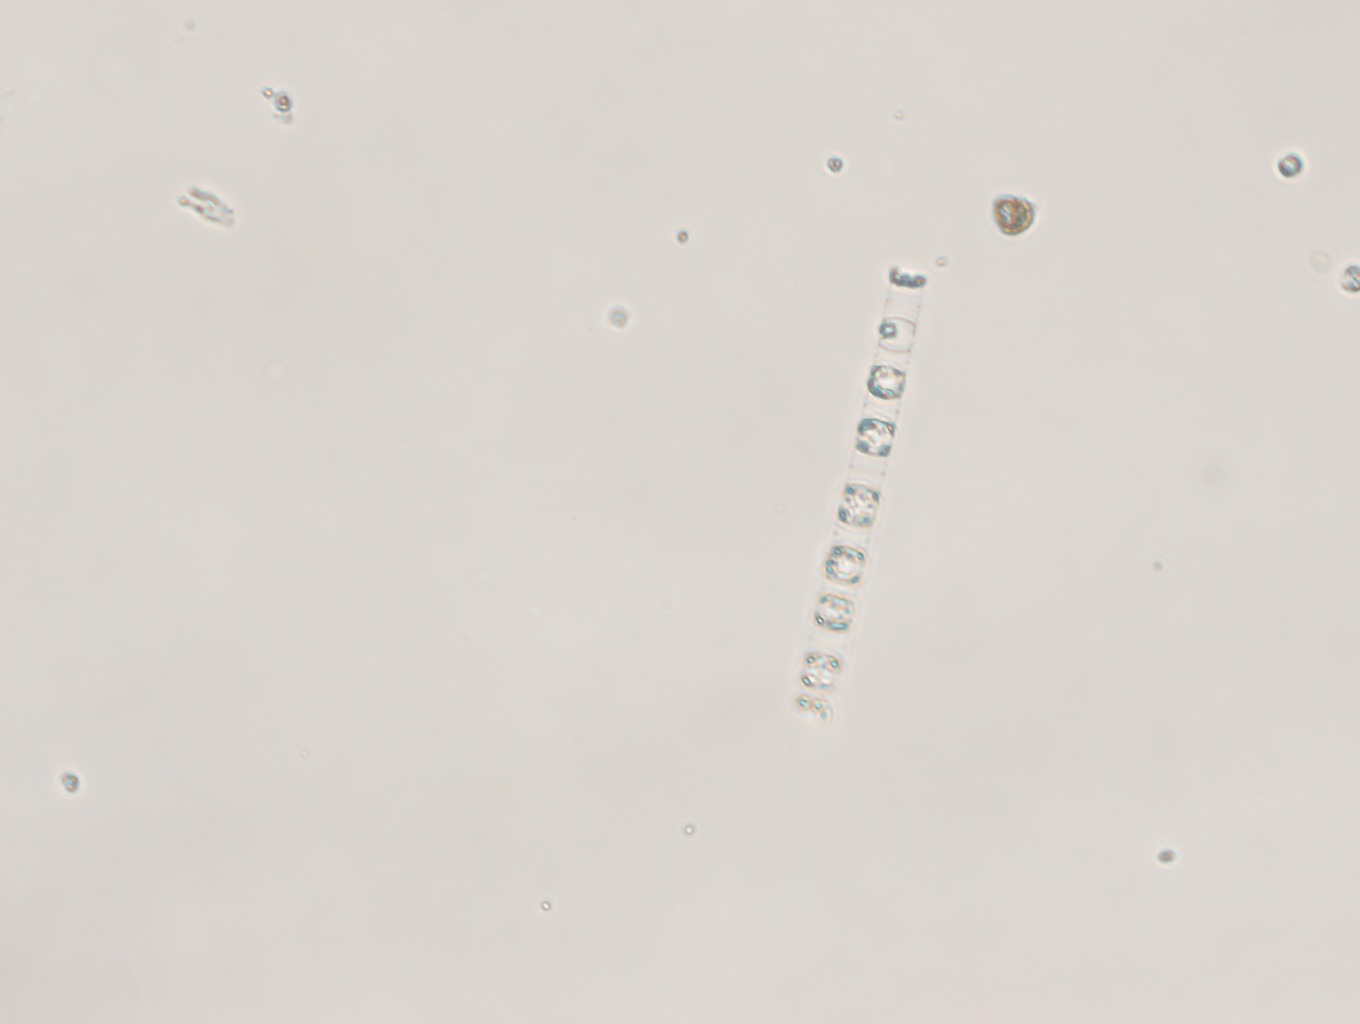skeletonema: (790, 254, 932, 746)
